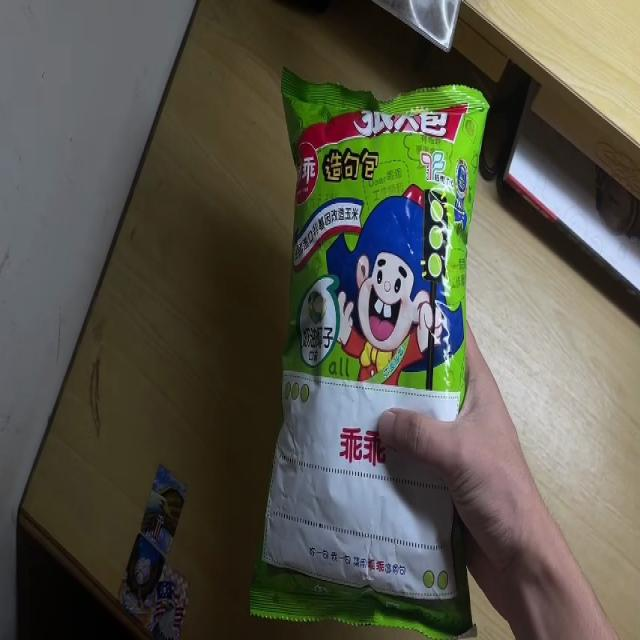Good-Luck: (250, 65, 488, 640)
